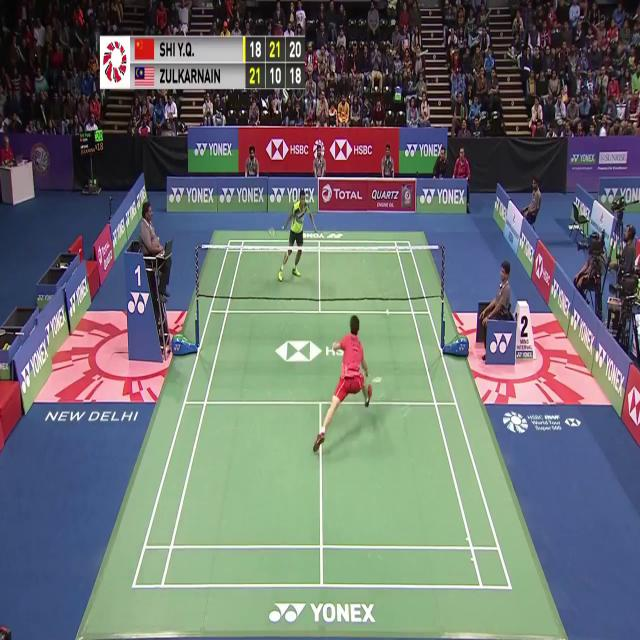Shuttlecock: (384, 307, 390, 319)
